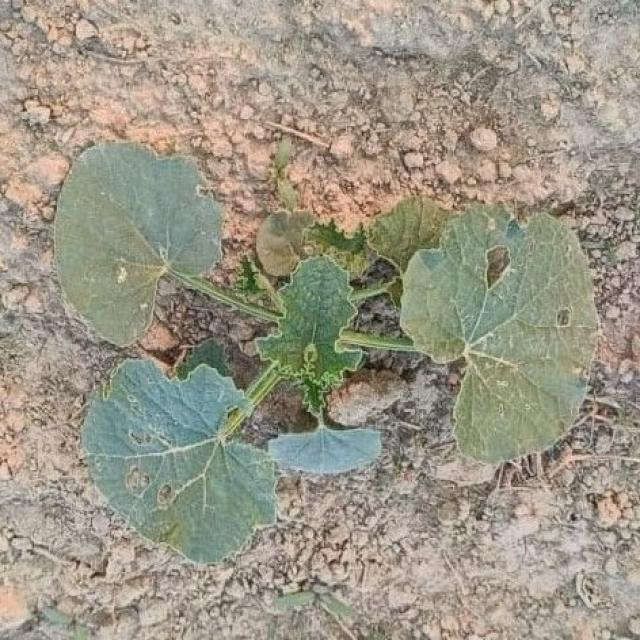plant: (55, 144, 599, 565)
